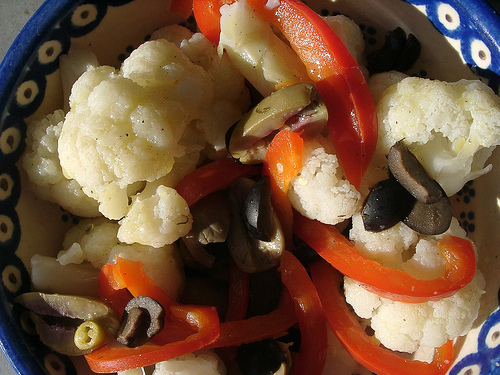cauliflower: (24, 0, 499, 374)
